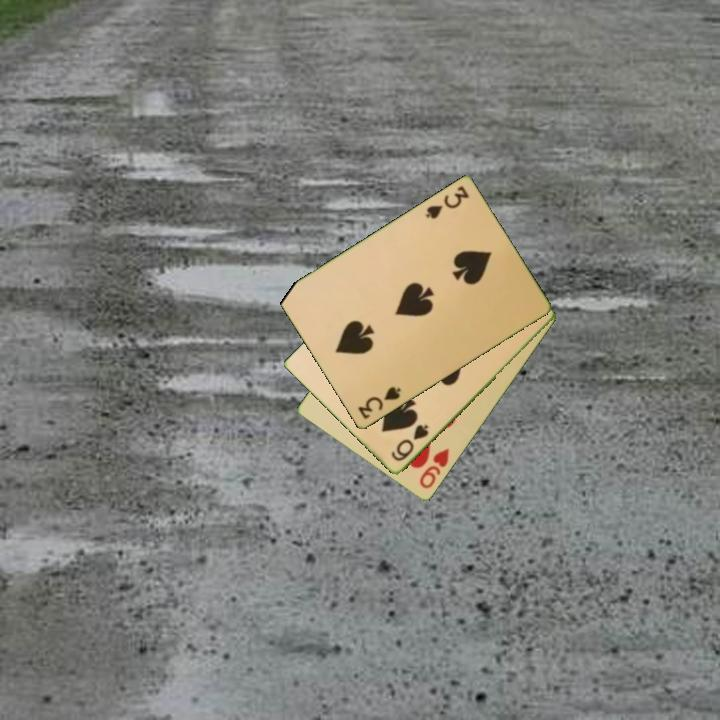3s: (354, 383, 404, 423), (422, 183, 472, 223)
6s: (387, 421, 432, 464)
9h: (416, 445, 452, 492)
